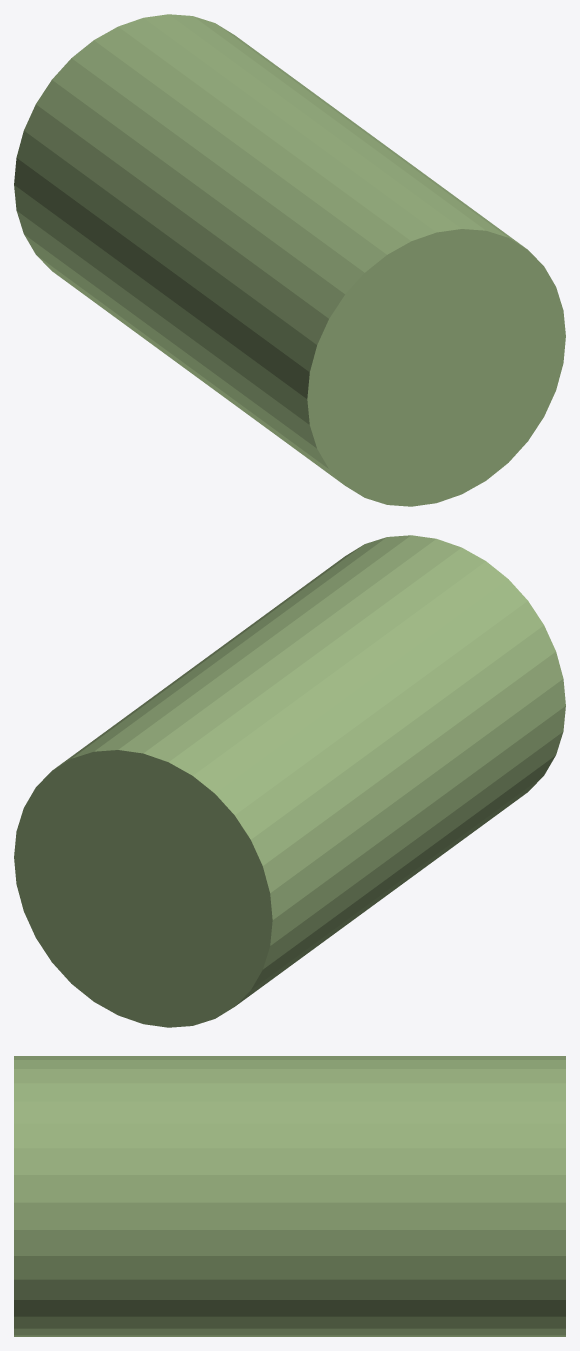
The model's file is goblin.glb.
3 views of the same model, one above another, from view 1: azimuth 30°, elevation 25°; view 2: azimuth 150°, elevation 25°; view 3: azimuth 270°, elevation 25° (orthographic). The views are drawn at different scales.
Visible parts, largest first — view 1: geometry_0; view 2: geometry_0; view 3: geometry_0.
Part boxes in pixels (x1,y1,x2,y2): geometry_0: (14,14,565,506); geometry_0: (14,535,565,1027); geometry_0: (14,1056,565,1336).
Bounding box in the file's own units: 0.56 × 0.56 × 1.1.
